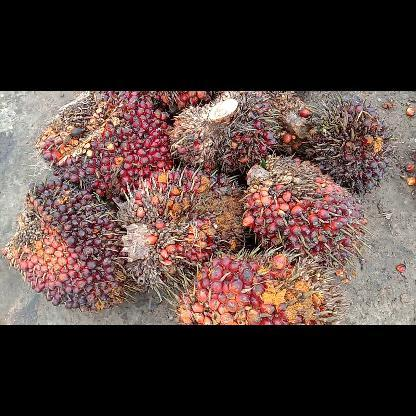TBS masak: (4, 182, 140, 310), (246, 150, 364, 281), (122, 180, 250, 294), (41, 92, 176, 198), (174, 256, 340, 324), (172, 91, 288, 175), (307, 98, 395, 193)
